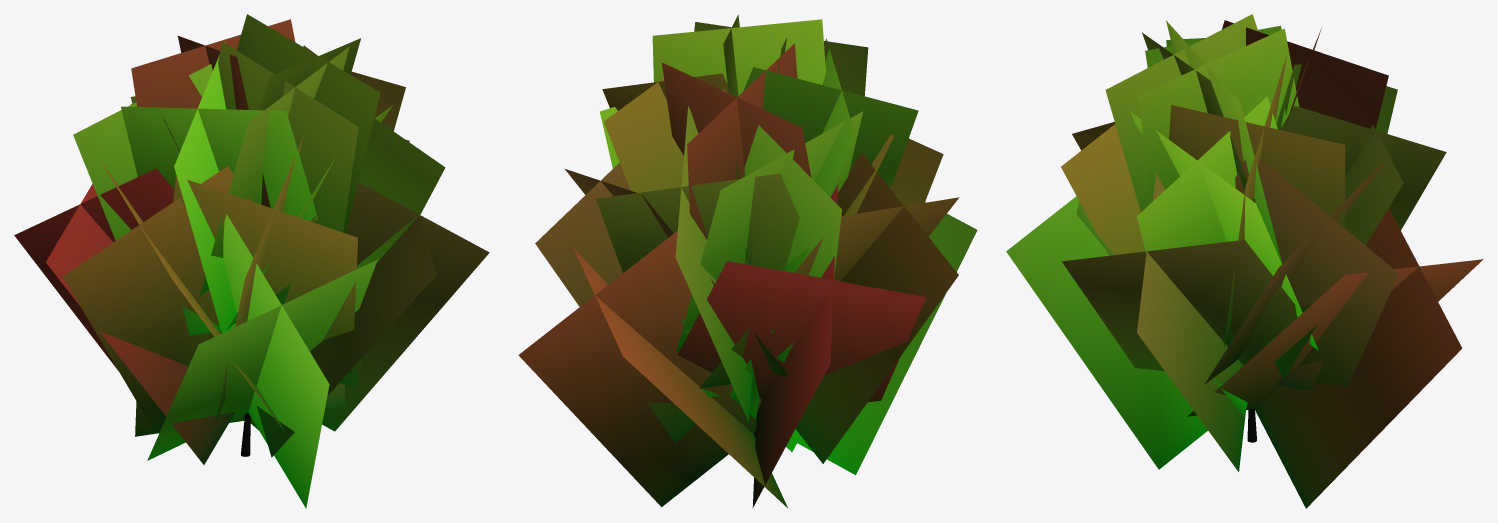
File: Bush_5_2.fbx
3 renders of one model, left to right at view 1: azimuth 30°, elevation 25°; view 2: azimuth 150°, elevation 25°; view 3: azimuth 270°, elevation 25°, orthographic. The views are drawn at different scales.
Parts seen in each view (by area): view 1: _12; view 2: _12; view 3: _12.
Part boxes in pixels (x1,y1,x2,y2): _12: [14, 14, 489, 508]; _12: [518, 14, 977, 507]; _12: [1006, 14, 1483, 508].
Bounding box in the file's own units: 563 × 658 × 624.
